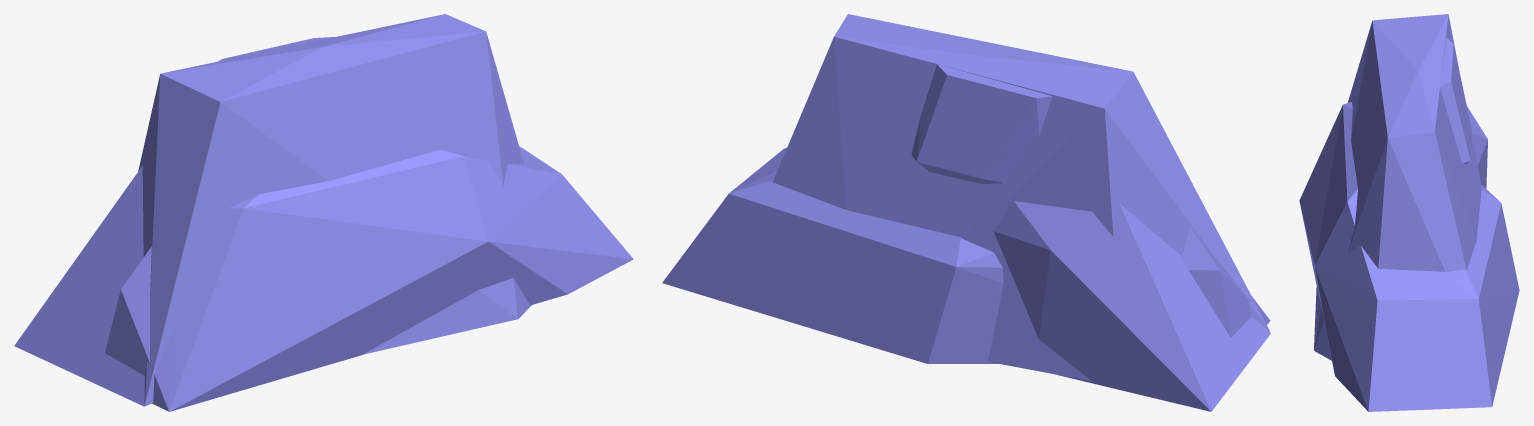
File: Cliff_Sediment_03_Taper_Collider_01.FBX
3 renders of one model, left to right at view 1: azimuth 30°, elevation 25°; view 2: azimuth 150°, elevation 25°; view 3: azimuth 270°, elevation 25°, orthographic. The views are drawn at different scales.
Visible parts, largest first — view 1: COLLIDER3, COLLIDER1, COLLIDER2; view 2: COLLIDER1, COLLIDER3, COLLIDER2, COLLIDER4; view 3: COLLIDER3, COLLIDER1, COLLIDER4, COLLIDER2.
Boxes of the visible parts, x1,y1,x2,y2 form: COLLIDER3: [105, 146, 633, 411]; COLLIDER1: [138, 14, 531, 404]; COLLIDER2: [14, 166, 151, 406]; COLLIDER1: [773, 14, 1269, 381]; COLLIDER3: [662, 148, 1270, 363]; COLLIDER2: [993, 201, 1270, 411]; COLLIDER4: [911, 64, 1052, 184]; COLLIDER3: [1299, 102, 1519, 411]; COLLIDER1: [1314, 14, 1481, 360]; COLLIDER4: [1440, 38, 1472, 164]; COLLIDER2: [1467, 106, 1487, 188].
Size of the model in its own units: 830 by 384 by 334.
